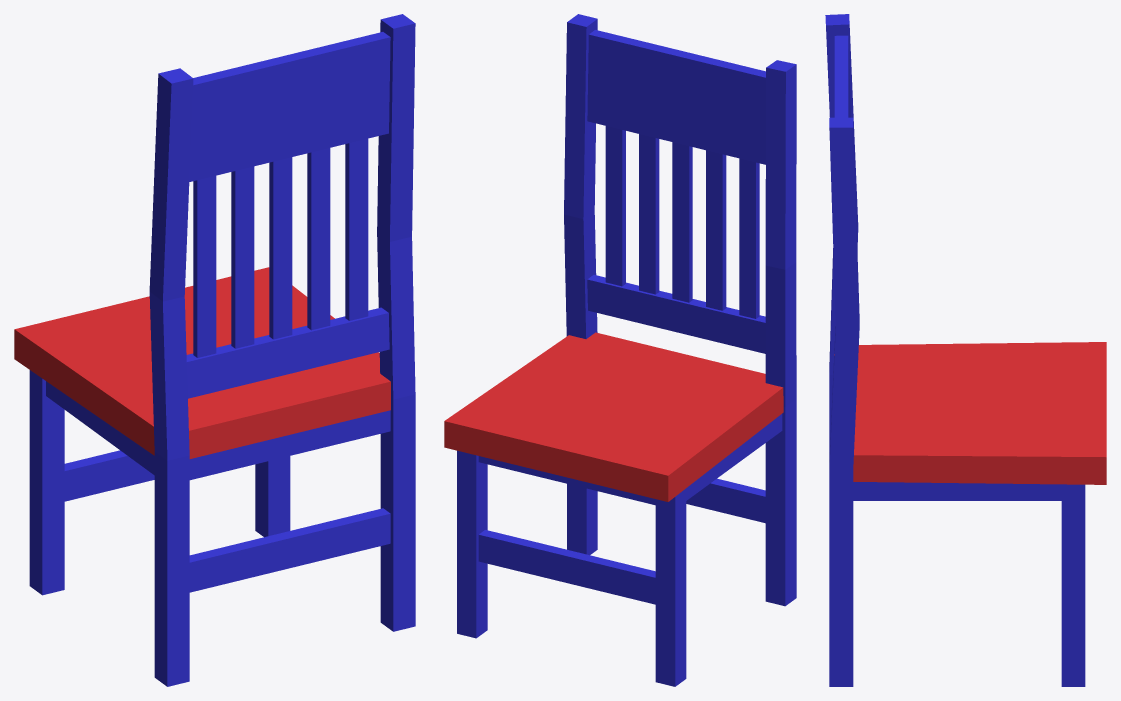
Rendered from chair.fbx.
The picture shows the model from 3 angles, left to right: view 1: azimuth 30°, elevation 25°; view 2: azimuth 150°, elevation 25°; view 3: azimuth 270°, elevation 25°; orthographic projection. The views are drawn at different scales.
Visible parts, largest first — view 1: chair, seat; view 2: chair, seat; view 3: seat, chair.
Part boxes in pixels (bbox=[...]): chair: bbox=[29, 14, 415, 686]; seat: bbox=[14, 267, 390, 458]; chair: bbox=[457, 14, 796, 686]; seat: bbox=[444, 332, 783, 501]; seat: bbox=[834, 342, 1106, 484]; chair: bbox=[825, 14, 1085, 686].
Bounding box in the file's own units: 229 × 521 × 237.
